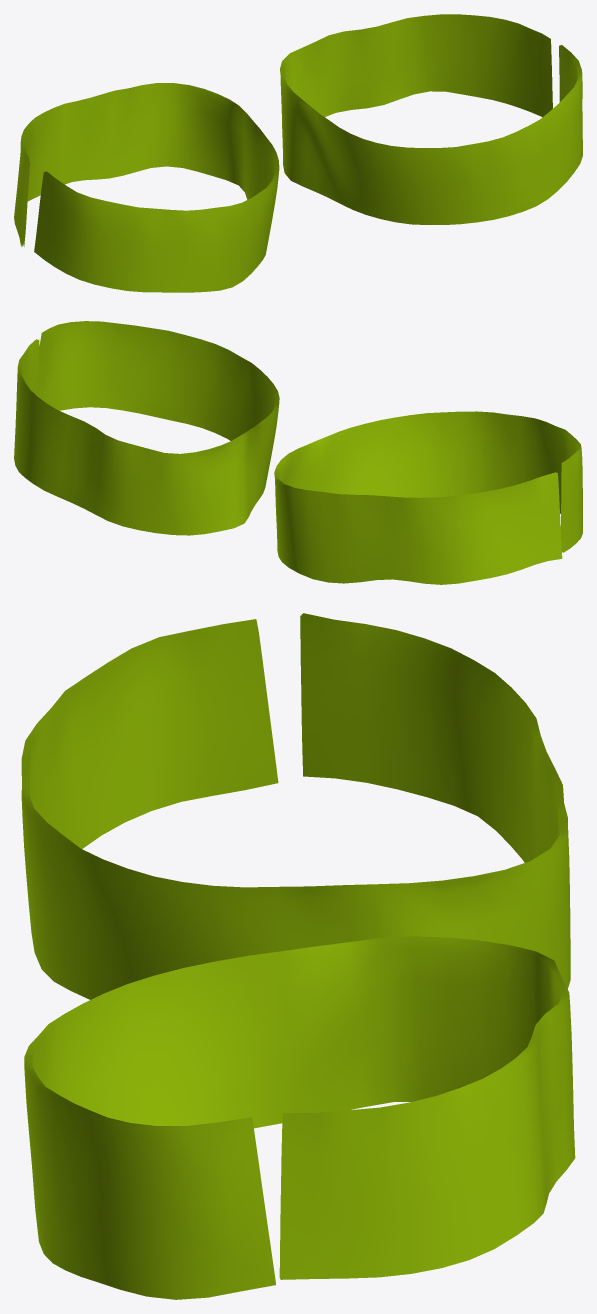
Rendered from tassels-bottom_side-slit.glb.
The picture shows the model from 3 angles, top to bottom: view 1: azimuth 30°, elevation 25°; view 2: azimuth 150°, elevation 25°; view 3: azimuth 270°, elevation 25°; orthographic projection. The views are drawn at different scales.
Parts seen in each view (by area): view 1: tassels-bottom; view 2: tassels-bottom; view 3: tassels-bottom.
Part boxes in pixels (x1,y1,x2,y2): tassels-bottom: [14, 14, 582, 292]; tassels-bottom: [14, 321, 582, 584]; tassels-bottom: [21, 613, 575, 1299].
Bounding box in the file's own units: 2.17 × 0.4393 × 0.9775.
